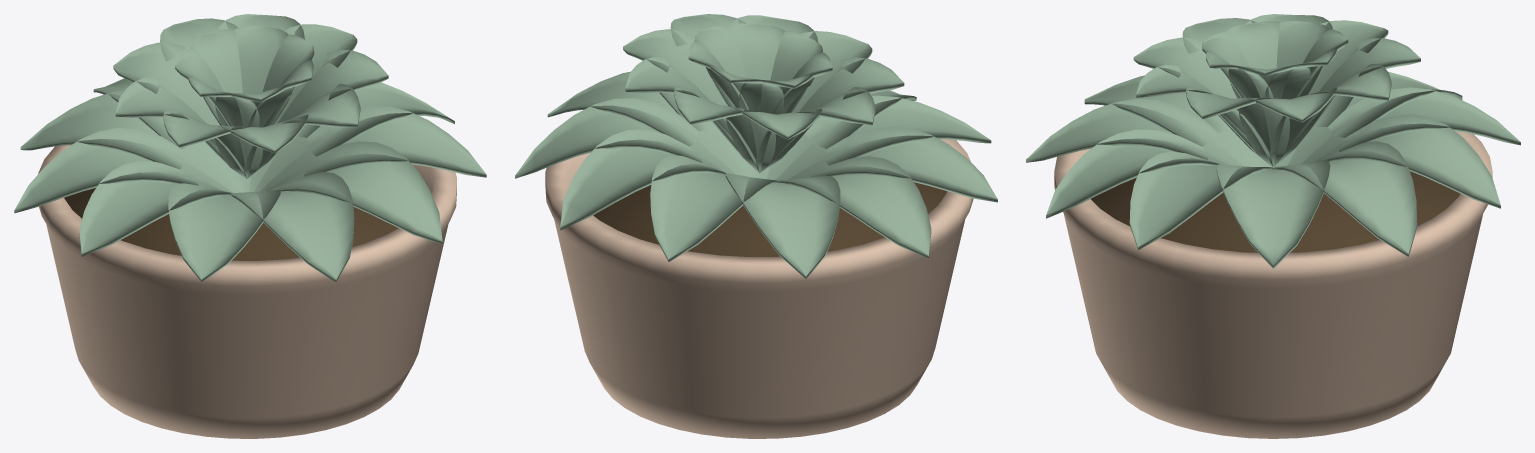
The model's file is succulent.glb.
The picture shows the model from 3 angles, left to right: view 1: azimuth 30°, elevation 25°; view 2: azimuth 150°, elevation 25°; view 3: azimuth 270°, elevation 25°; orthographic projection. The views are drawn at different scales.
Parts seen in each view (by area): view 1: succulent__leaves, succulent__body, succulent__soil; view 2: succulent__leaves, succulent__body, succulent__soil; view 3: succulent__leaves, succulent__body, succulent__soil.
Boxes of the visible parts, x1=… form: succulent__leaves: x1=14, y1=14, x2=486, y2=282; succulent__body: x1=38, y1=145, x2=456, y2=438; succulent__soil: x1=64, y1=188, x2=398, y2=260; succulent__leaves: x1=515, y1=14, x2=997, y2=278; succulent__body: x1=545, y1=139, x2=973, y2=438; succulent__soil: x1=593, y1=182, x2=946, y2=256; succulent__leaves: x1=1026, y1=14, x2=1520, y2=268; succulent__body: x1=1054, y1=131, x2=1492, y2=438; succulent__soil: x1=1091, y1=171, x2=1460, y2=252.
Bounding box in the file's own units: 0.1901 × 0.142 × 0.1921.
